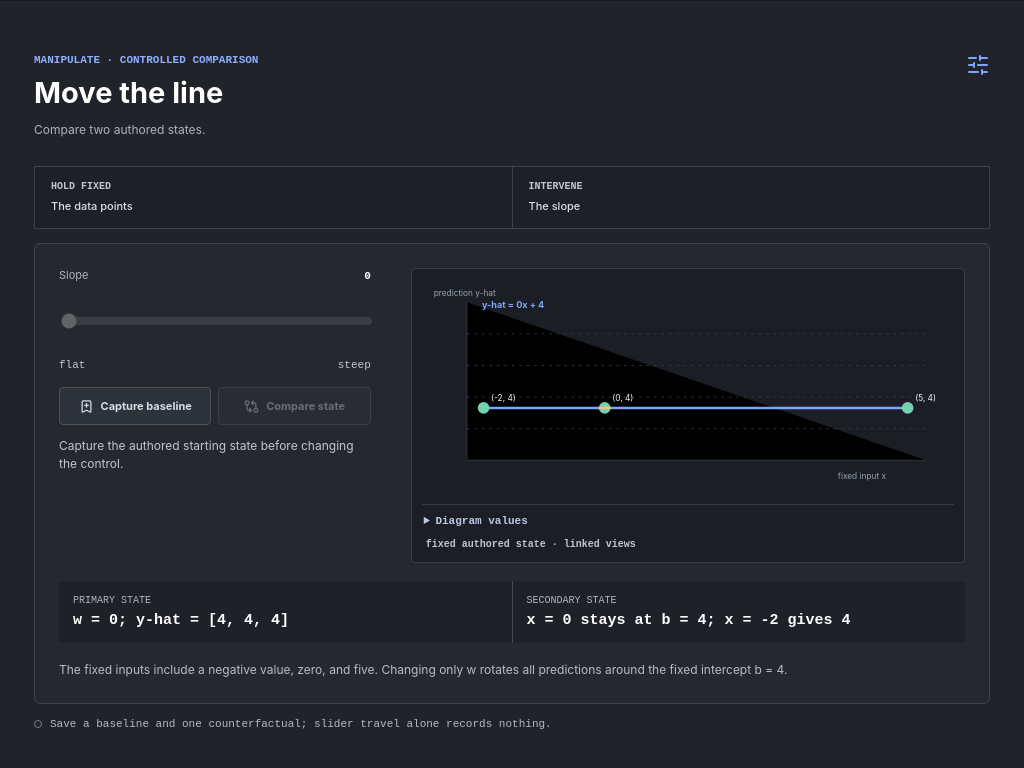
Scenario: VisualMechanismLab status announcements › announces comparison completion through its single status region
Check: the number of messages with class "experiment-status" is 1, box [59,437,371,473]
Click the button "Capture baseline" at (135, 406), box [59,387,211,425]
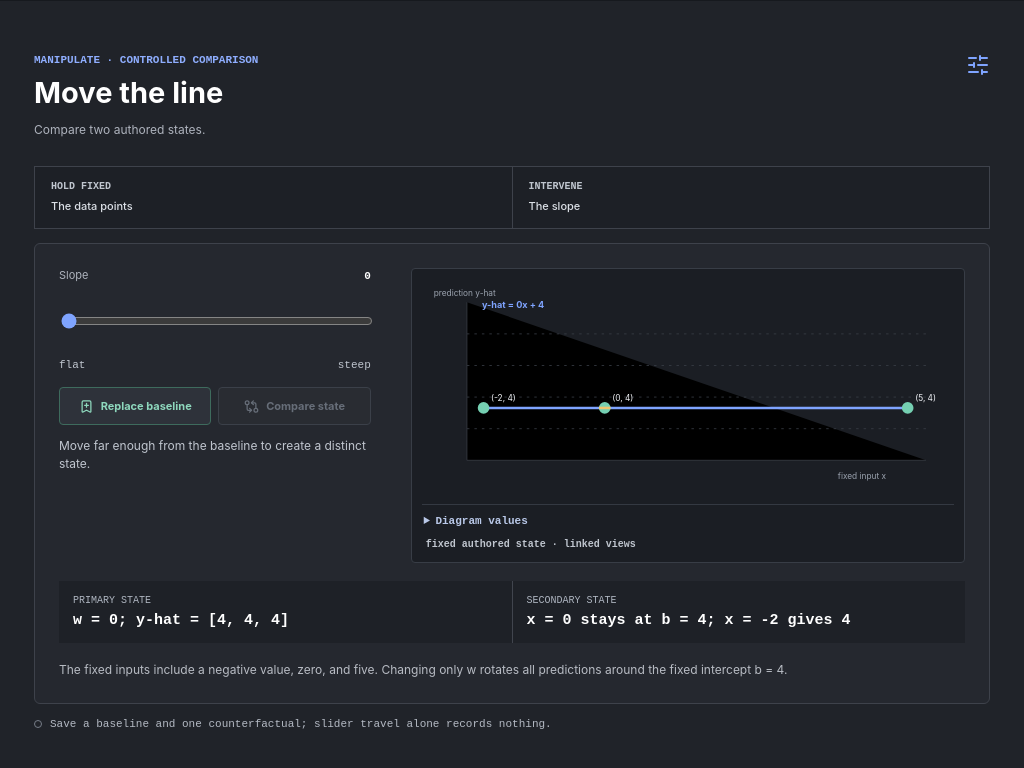
Set the slider to "1" at (365, 321), box [61,297,373,345]
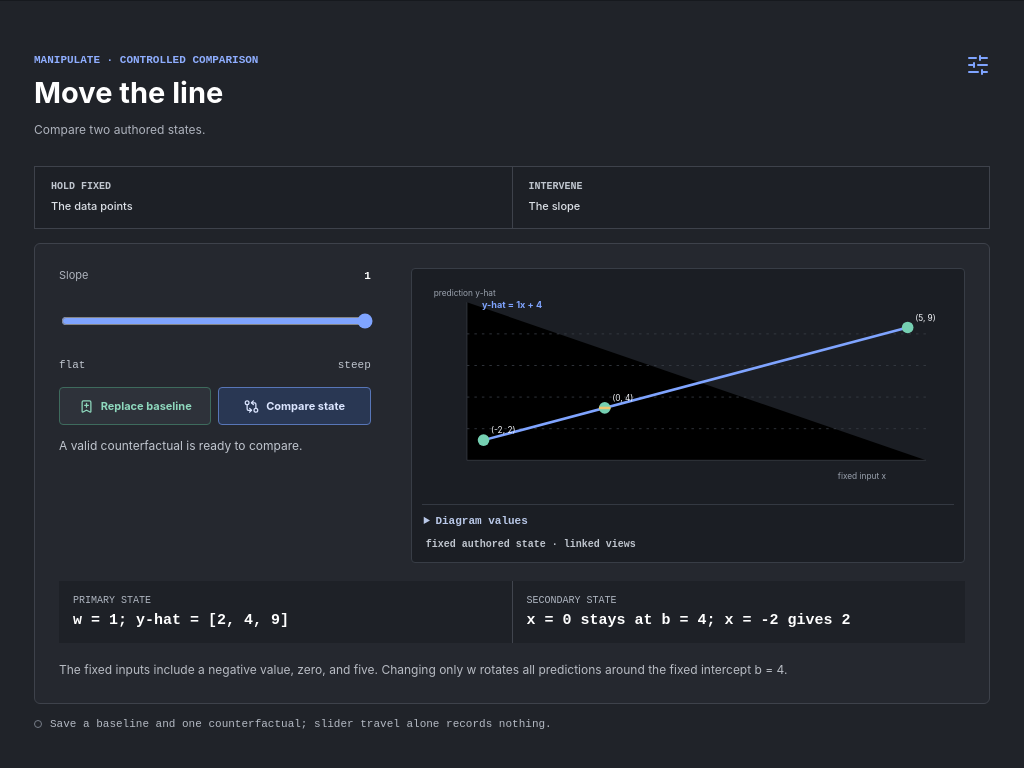
Click the button "Compare state" at (295, 406), box [218,387,371,425]
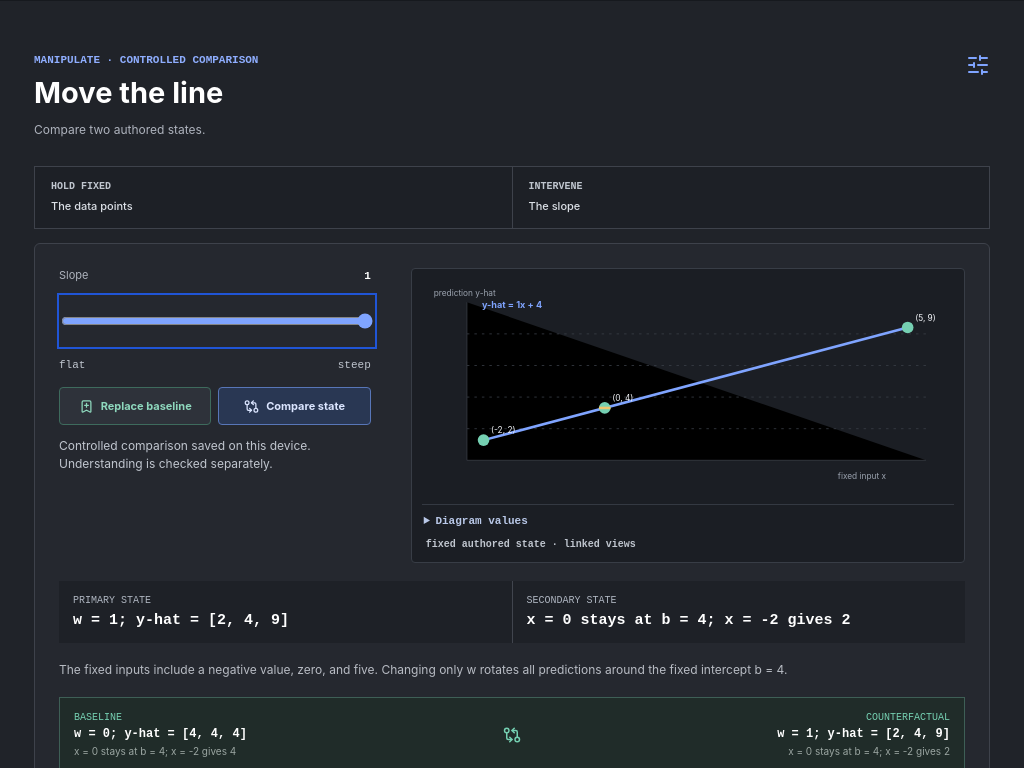
Check: the message with class "experiment-status" shows "Controlled comparison saved on this device.", box [59,438,311,471]
